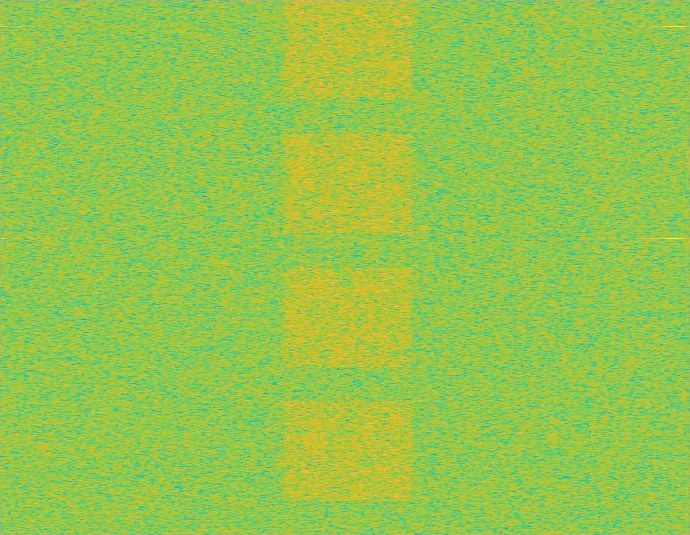5G: (280, 0, 418, 534)
Radar: (667, 0, 681, 534)
